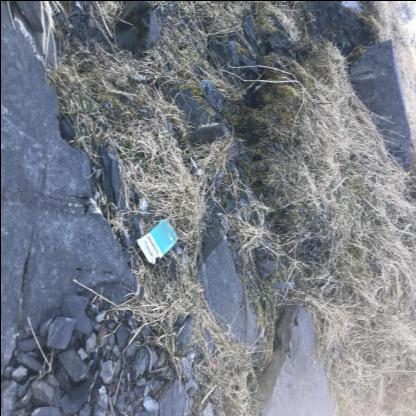Carton: (136, 218, 177, 264)
Other plastic: (211, 362, 215, 368)
Unlabeled litter: (190, 157, 198, 169), (201, 81, 211, 88), (197, 168, 203, 172), (216, 212, 222, 214)
